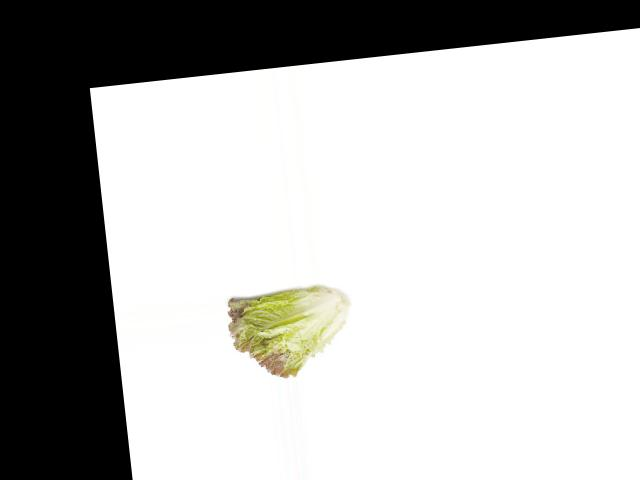lettuce: (223, 284, 355, 382)
